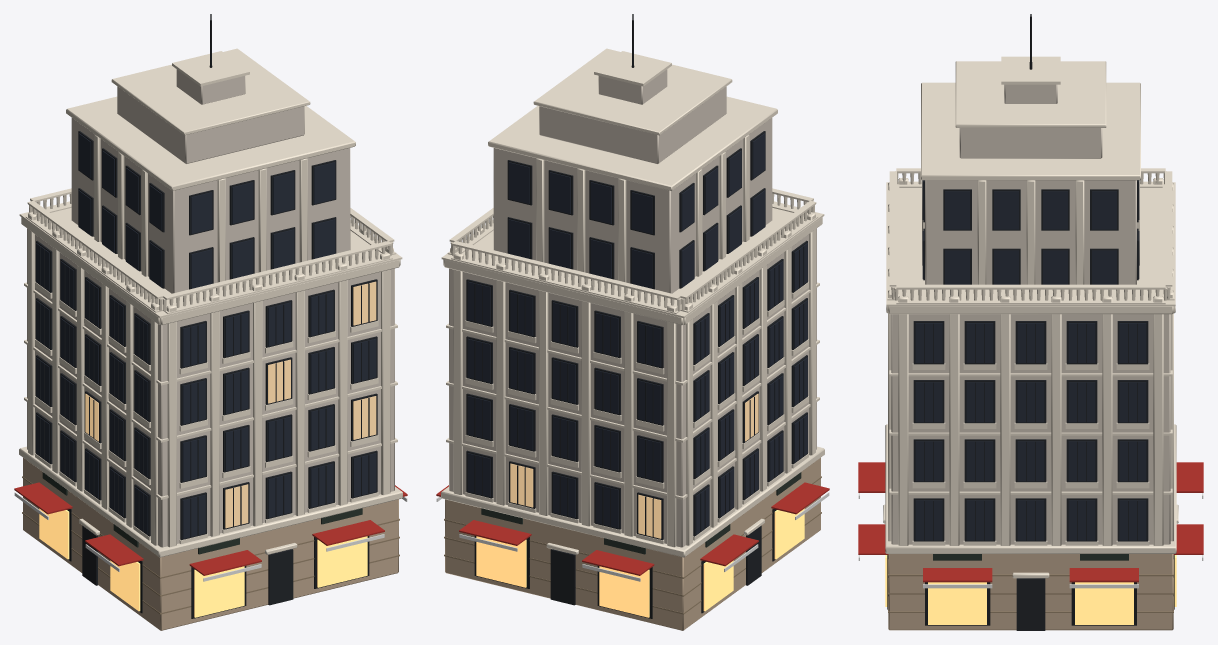
File: building_dc_b.fbx
3 renders of one model, left to right at view 1: azimuth 30°, elevation 25°; view 2: azimuth 150°, elevation 25°; view 3: azimuth 270°, elevation 25°, orthographic. The views are drawn at different scales.
Visible parts, largest first — view 1: building_dc_b; view 2: building_dc_b; view 3: building_dc_b.
Part boxes in pixels (box(x1,y1,x2,y2)): building_dc_b: box(14, 14, 407, 630); building_dc_b: box(436, 14, 829, 630); building_dc_b: box(858, 14, 1203, 630).
Size of the model in its own units: 16.94 by 30.1 by 16.94.
